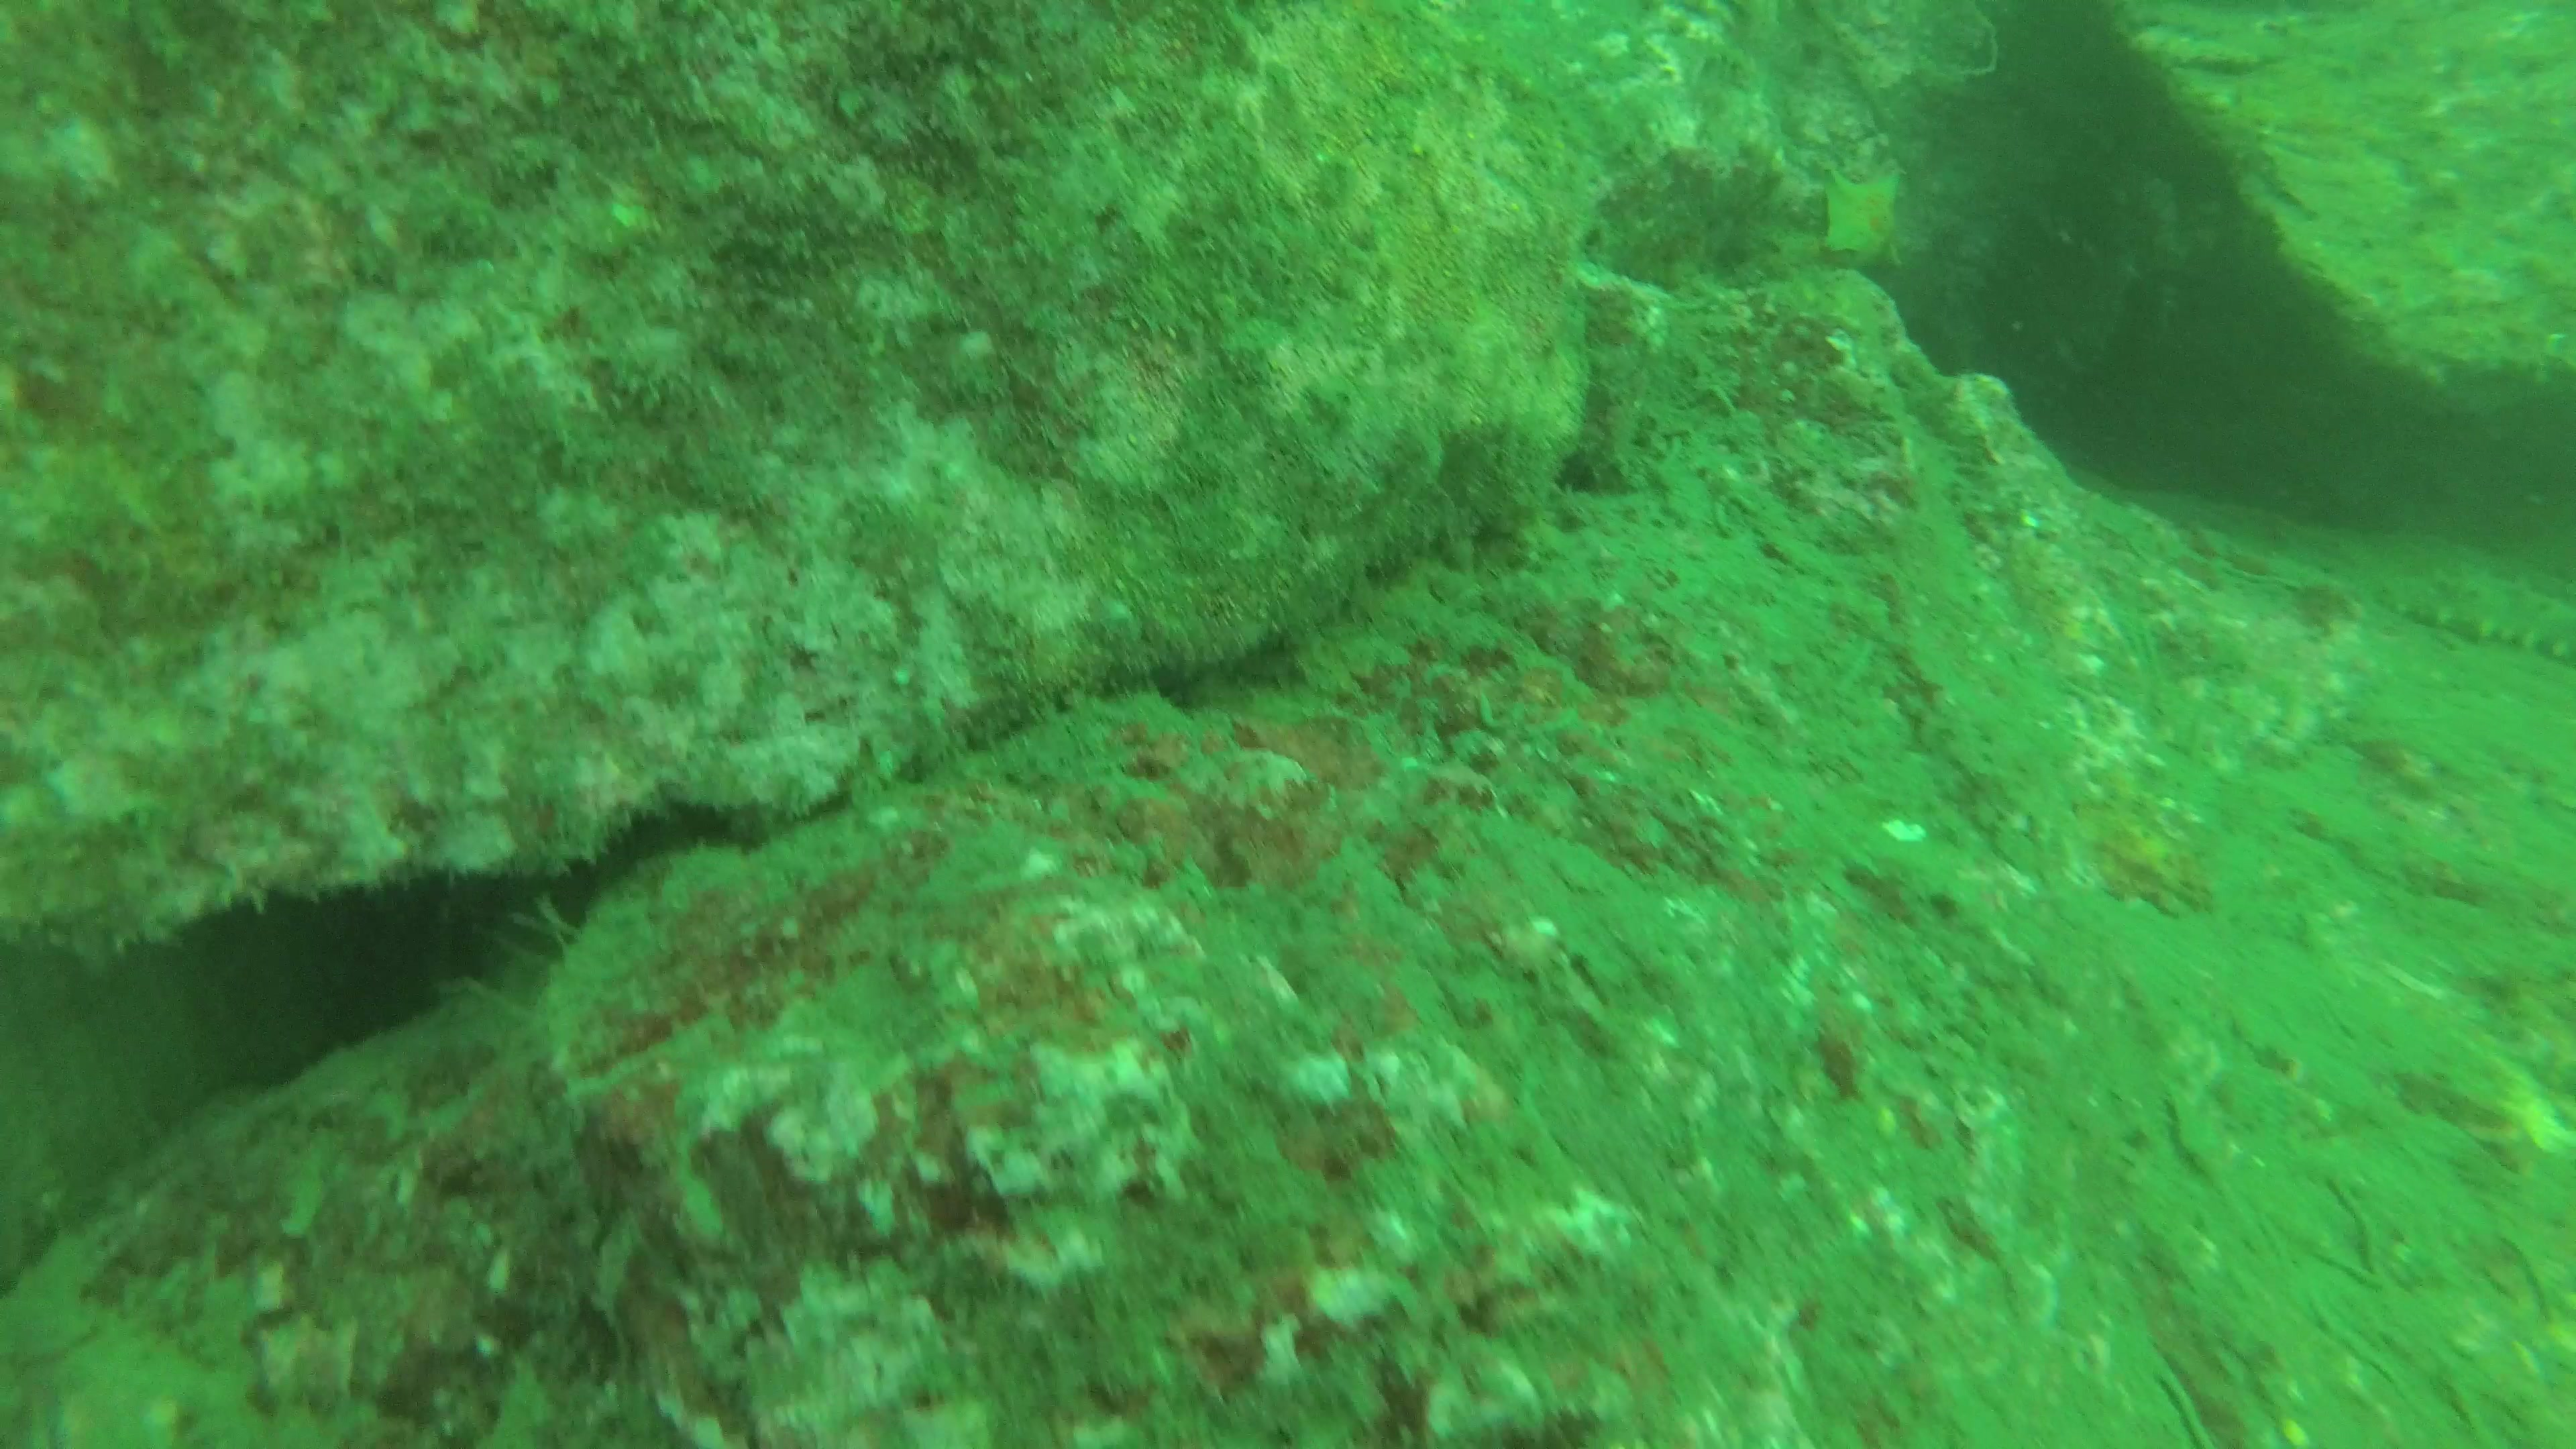holothurian: (2376, 573, 2576, 669)
starfish: (1817, 163, 1904, 271)
